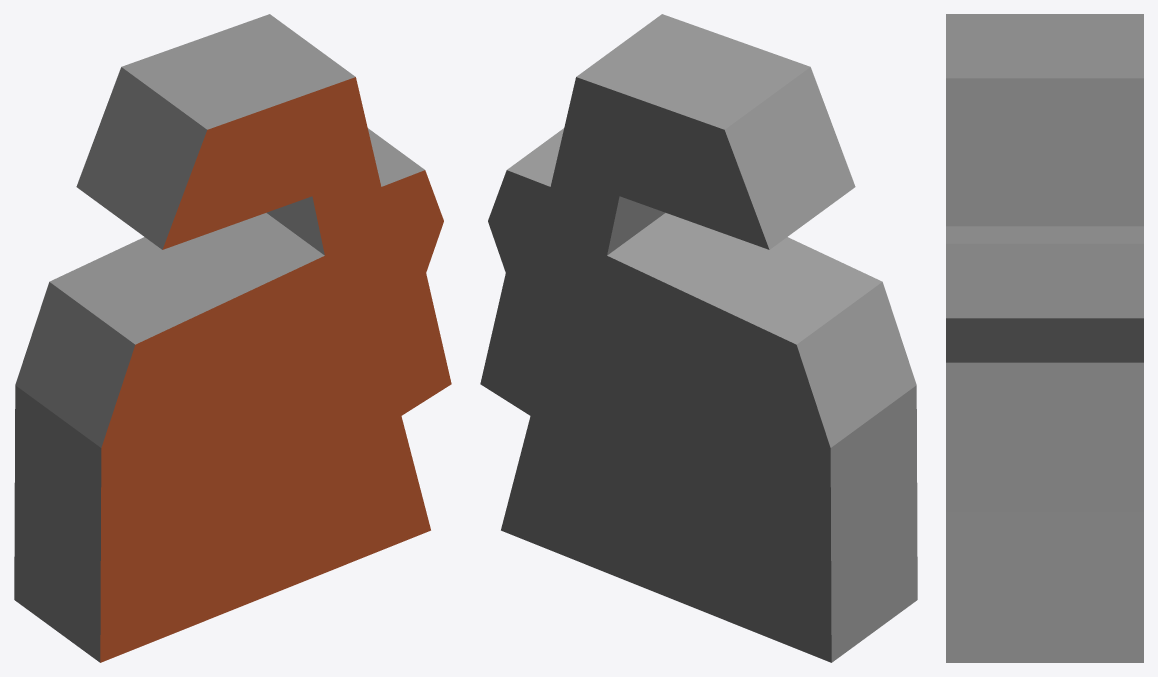
File: construction_6711_assumed_A_Casa_h6m.obj
The picture shows the model from 3 angles, left to right: view 1: azimuth 30°, elevation 25°; view 2: azimuth 150°, elevation 25°; view 3: azimuth 270°, elevation 25°; orthographic projection. The views are drawn at different scales.
Visible parts, largest first — view 1: construction_6711_assumed_A_Casa; view 2: construction_6711_assumed_A_Casa; view 3: construction_6711_assumed_A_Casa.
Boxes of the visible parts, box(x1,y1,x2,y2) form: construction_6711_assumed_A_Casa: box(14, 14, 451, 662); construction_6711_assumed_A_Casa: box(480, 14, 917, 662); construction_6711_assumed_A_Casa: box(946, 14, 1143, 662).
Size of the model in its own units: 14.14 by 20.14 by 6.
